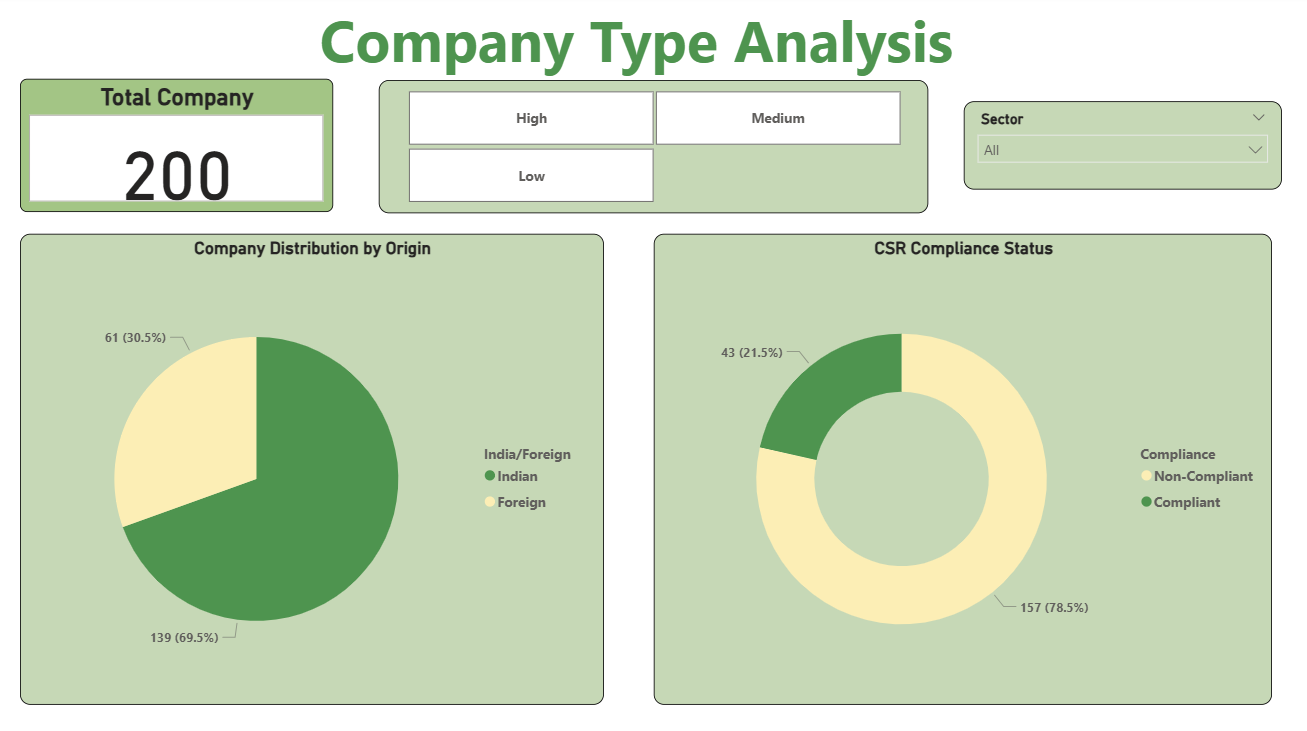

The dashboard page shown, as its layout file describes it:
{"tool":"powerbi","page":{"name":"Page 4","canvas":[1280,720],"ordinal":2},"visuals":[{"type":"textbox","box":[273.1,0,699.8,100.2],"z":0},{"type":"pieChart","title":"Company Distribution by Origin","fields":{"Y":["CountNonNull(Sheet1.Company Name)"],"Category":["Sheet1.Company_Type"]},"box":[19.2,233.3,570.8,461.1],"z":1000},{"type":"donutChart","title":"CSR Compliance Status","fields":{"Y":["CountNonNull(Sheet1.Company Name)"],"Category":["Sheet1.Compliance"]},"box":[639.5,233.3,605.1,461.1],"z":2000},{"type":"slicer","fields":{"Values":["Sheet1.Funding_Category"]},"box":[370.5,83.7,537.9,130.4],"z":3000},{"type":"slicer","fields":{"Values":["Sheet1.Sector"]},"box":[942.7,104.3,311.5,86.4],"z":4000},{"type":"cardVisual","title":"Total Company","fields":{"Data":["CountNonNull(Sheet1.Company Name)"]},"box":[19.2,82.3,306,130.4],"z":5000}]}

Visuals, with their boxes in screenshot pixels (x1, y1, x2, y2), scaled from the page's 1280x720 canvas onto the 1307x731 screenshot:
textbox: (left=279, top=0, right=993, bottom=102)
"Company Distribution by Origin" pieChart: (left=20, top=237, right=602, bottom=705)
"CSR Compliance Status" donutChart: (left=653, top=237, right=1271, bottom=705)
slicer - Sheet1.Funding_Category: (left=378, top=85, right=928, bottom=217)
slicer - Sheet1.Sector: (left=963, top=106, right=1281, bottom=194)
"Total Company" cardVisual: (left=20, top=84, right=332, bottom=216)
